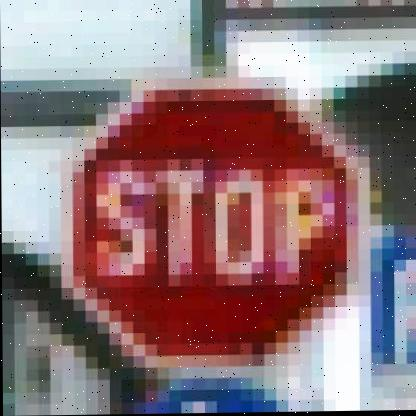Stop Sign: (55, 71, 373, 372)
